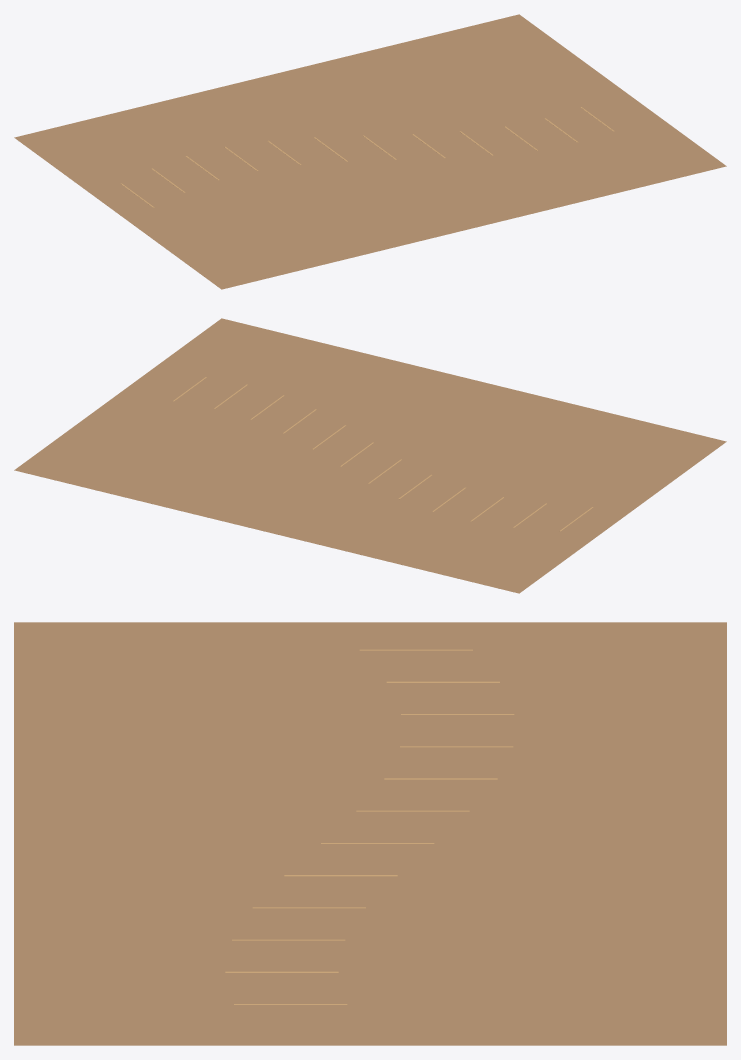
Rendered from 274_L119_L25_LayerReference.glb.
3 renders of one model, top to bottom at view 1: azimuth 30°, elevation 25°; view 2: azimuth 150°, elevation 25°; view 3: azimuth 270°, elevation 25°, orthographic. The views are drawn at different scales.
Visible parts, largest first — view 1: 0000__PSMAT__copper_dark; view 2: 0000__PSMAT__copper_dark; view 3: 0000__PSMAT__copper_dark.
Boxes of the visible parts, x1,y1,x2,y2 form: 0000__PSMAT__copper_dark: [14, 14, 726, 289]; 0000__PSMAT__copper_dark: [14, 318, 726, 593]; 0000__PSMAT__copper_dark: [14, 622, 726, 1045].
Bounding box in the file's own units: 0.486 × 7e-05 × 0.346.
